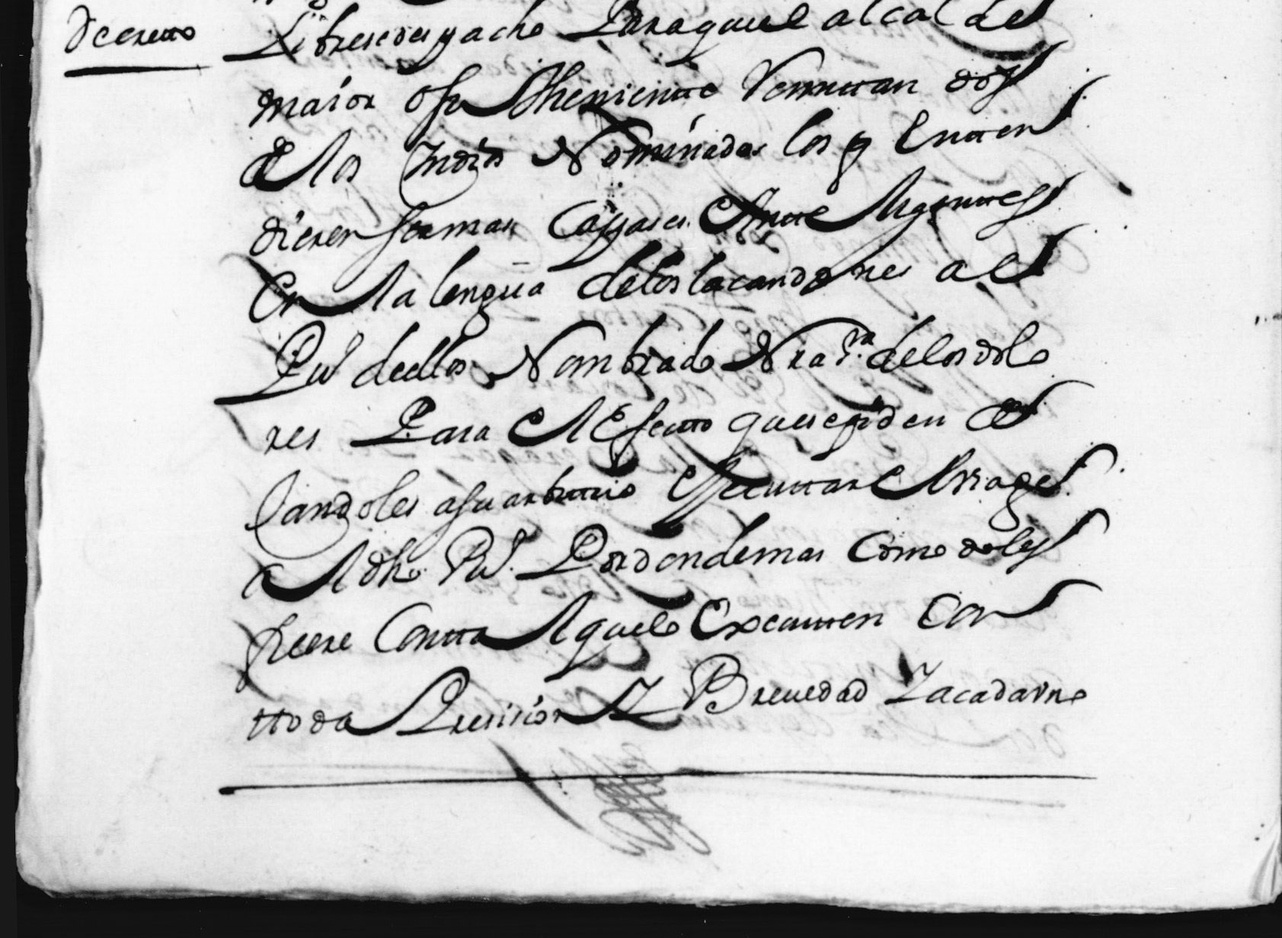lacandon: (688, 250, 912, 296)
